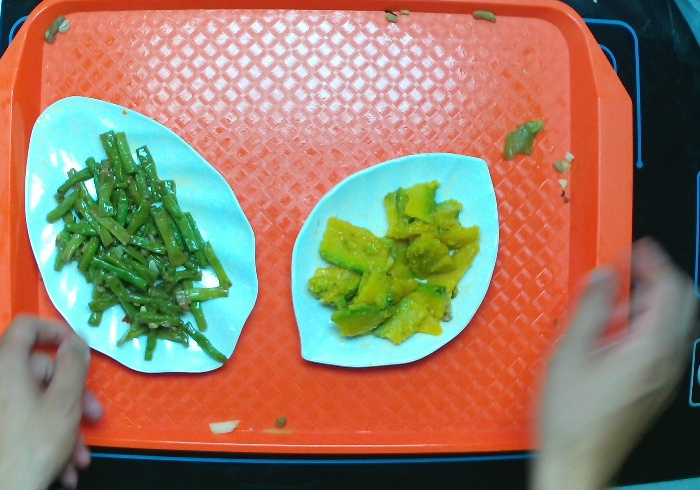RJxy-Bai_Ye_Pan: (21, 92, 261, 376)
RJxy-Da_Du_Pan: (290, 151, 499, 372)
